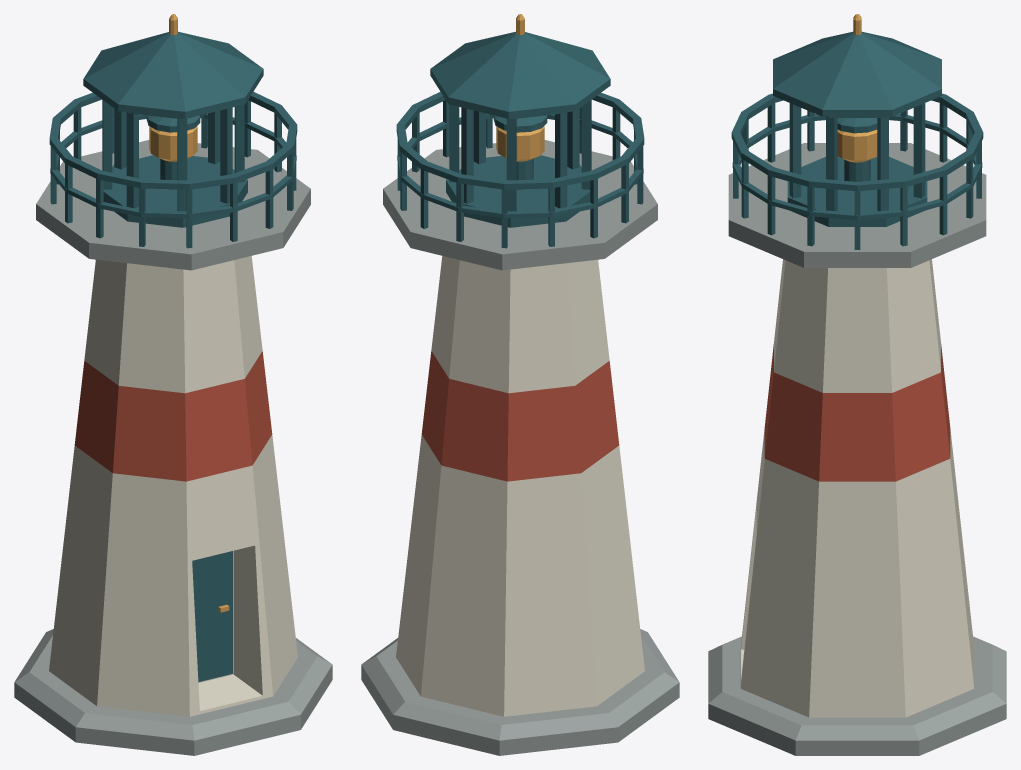
3 views of the same model, side by side, from view 1: azimuth 30°, elevation 25°; view 2: azimuth 150°, elevation 25°; view 3: azimuth 270°, elevation 25° (orthographic).
Visible parts, largest first — view 1: Tower_TaperedWithRealDoorRecess, Base_OctagonalFoundation, Gallery_SolidOctagonalDeck, Roof_ClosedPyramidalCap, Door_FixedRecessedPanel, Gallery_RailingTopRail, LanternRoom_OctagonalSill, Gallery_RailingMidRail, Lamp_UnlitFacetedBody, LanternRoom_Column_05, LanternRoom_Column_07, LanternRoom_Column_06 (+5 smaller); view 2: Tower_TaperedWithRealDoorRecess, Base_OctagonalFoundation, Gallery_SolidOctagonalDeck, Roof_ClosedPyramidalCap, Gallery_RailingTopRail, LanternRoom_OctagonalSill, Gallery_RailingMidRail, Lamp_UnlitFacetedBody, LanternRoom_Column_04, LanternRoom_Column_02, LanternRoom_Column_03, LanternRoom_Column_05 (+4 smaller); view 3: Tower_TaperedWithRealDoorRecess, Base_OctagonalFoundation, Gallery_SolidOctagonalDeck, Roof_ClosedPyramidalCap, Gallery_RailingTopRail, LanternRoom_OctagonalSill, Gallery_RailingMidRail, Lamp_UnlitFacetedBody, LanternRoom_Column_02, LanternRoom_Column_07, LanternRoom_Column_01, LanternRoom_Column_08 (+2 smaller).
Boxes of the visible parts, x1=… form: Tower_TaperedWithRealDoorRecess: x1=49, y1=256, x2=297, y2=716; Base_OctagonalFoundation: x1=14, y1=629, x2=332, y2=755; Gallery_SolidOctagonalDeck: x1=36, y1=140, x2=310, y2=270; Roof_ClosedPyramidalCap: x1=83, y1=31, x2=263, y2=118; Door_FixedRecessedPanel: x1=192, y1=551, x2=232, y2=682; Gallery_RailingTopRail: x1=49, y1=91, x2=297, y2=189; LanternRoom_OctagonalSill: x1=103, y1=155, x2=247, y2=227; Gallery_RailingMidRail: x1=50, y1=113, x2=296, y2=218; Lamp_UnlitFacetedBody: x1=149, y1=126, x2=197, y2=161; LanternRoom_Column_05: x1=126, y1=113, x2=138, y2=208; LanternRoom_Column_07: x1=220, y1=107, x2=232, y2=203; LanternRoom_Column_06: x1=177, y1=118, x2=187, y2=211; Tower_TaperedWithRealDoorRecess: x1=396, y1=256, x2=644, y2=716; Base_OctagonalFoundation: x1=361, y1=629, x2=679, y2=755; Gallery_SolidOctagonalDeck: x1=383, y1=140, x2=657, y2=270; Roof_ClosedPyramidalCap: x1=430, y1=31, x2=610, y2=118; Gallery_RailingTopRail: x1=396, y1=91, x2=644, y2=189; LanternRoom_OctagonalSill: x1=446, y1=155, x2=590, y2=227; Gallery_RailingMidRail: x1=397, y1=113, x2=643, y2=218; Lamp_UnlitFacetedBody: x1=496, y1=126, x2=544, y2=161; LanternRoom_Column_04: x1=555, y1=113, x2=567, y2=208; LanternRoom_Column_02: x1=461, y1=107, x2=473, y2=203; LanternRoom_Column_03: x1=506, y1=118, x2=516, y2=211; LanternRoom_Column_05: x1=581, y1=100, x2=591, y2=189; Tower_TaperedWithRealDoorRecess: x1=740, y1=259, x2=974, y2=717; Base_OctagonalFoundation: x1=708, y1=636, x2=1006, y2=755; Gallery_SolidOctagonalDeck: x1=728, y1=143, x2=986, y2=267; Roof_ClosedPyramidalCap: x1=773, y1=31, x2=941, y2=116; Gallery_RailingTopRail: x1=731, y1=93, x2=983, y2=191; LanternRoom_OctagonalSill: x1=787, y1=156, x2=927, y2=226; Gallery_RailingMidRail: x1=732, y1=114, x2=982, y2=220; Lamp_UnlitFacetedBody: x1=837, y1=129, x2=877, y2=162; LanternRoom_Column_02: x1=913, y1=103, x2=925, y2=198; LanternRoom_Column_07: x1=789, y1=103, x2=801, y2=198; LanternRoom_Column_01: x1=877, y1=117, x2=888, y2=211; LanternRoom_Column_08: x1=826, y1=117, x2=837, y2=211.
Bounding box in the file's own units: 3.51 × 8.8 × 3.51.
